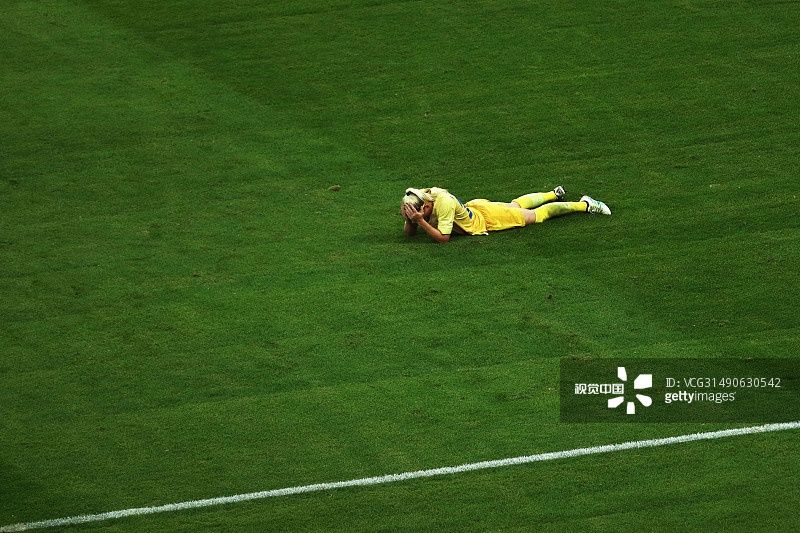falling: (382, 179, 618, 246)
